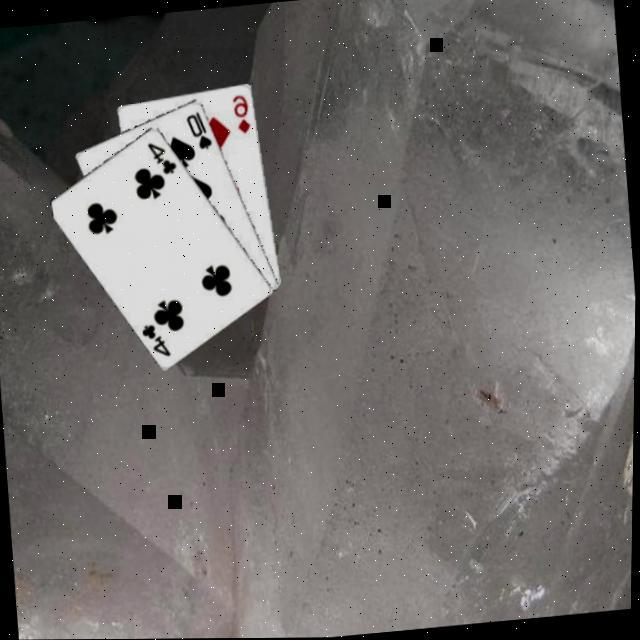10S: (182, 106, 217, 150)
4C: (139, 316, 176, 359), (145, 135, 180, 176)
6D: (229, 89, 255, 135)
